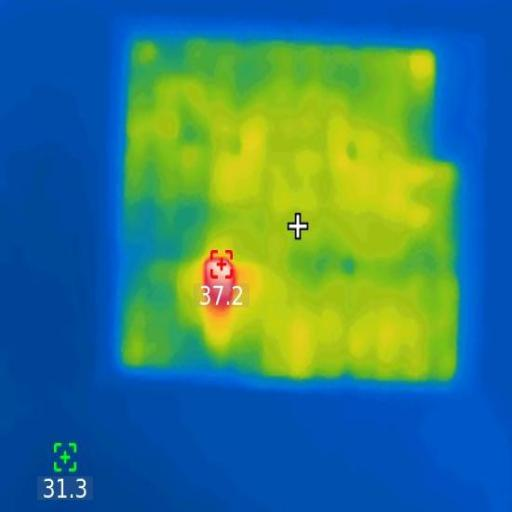hotspot: (199, 250, 246, 322)
